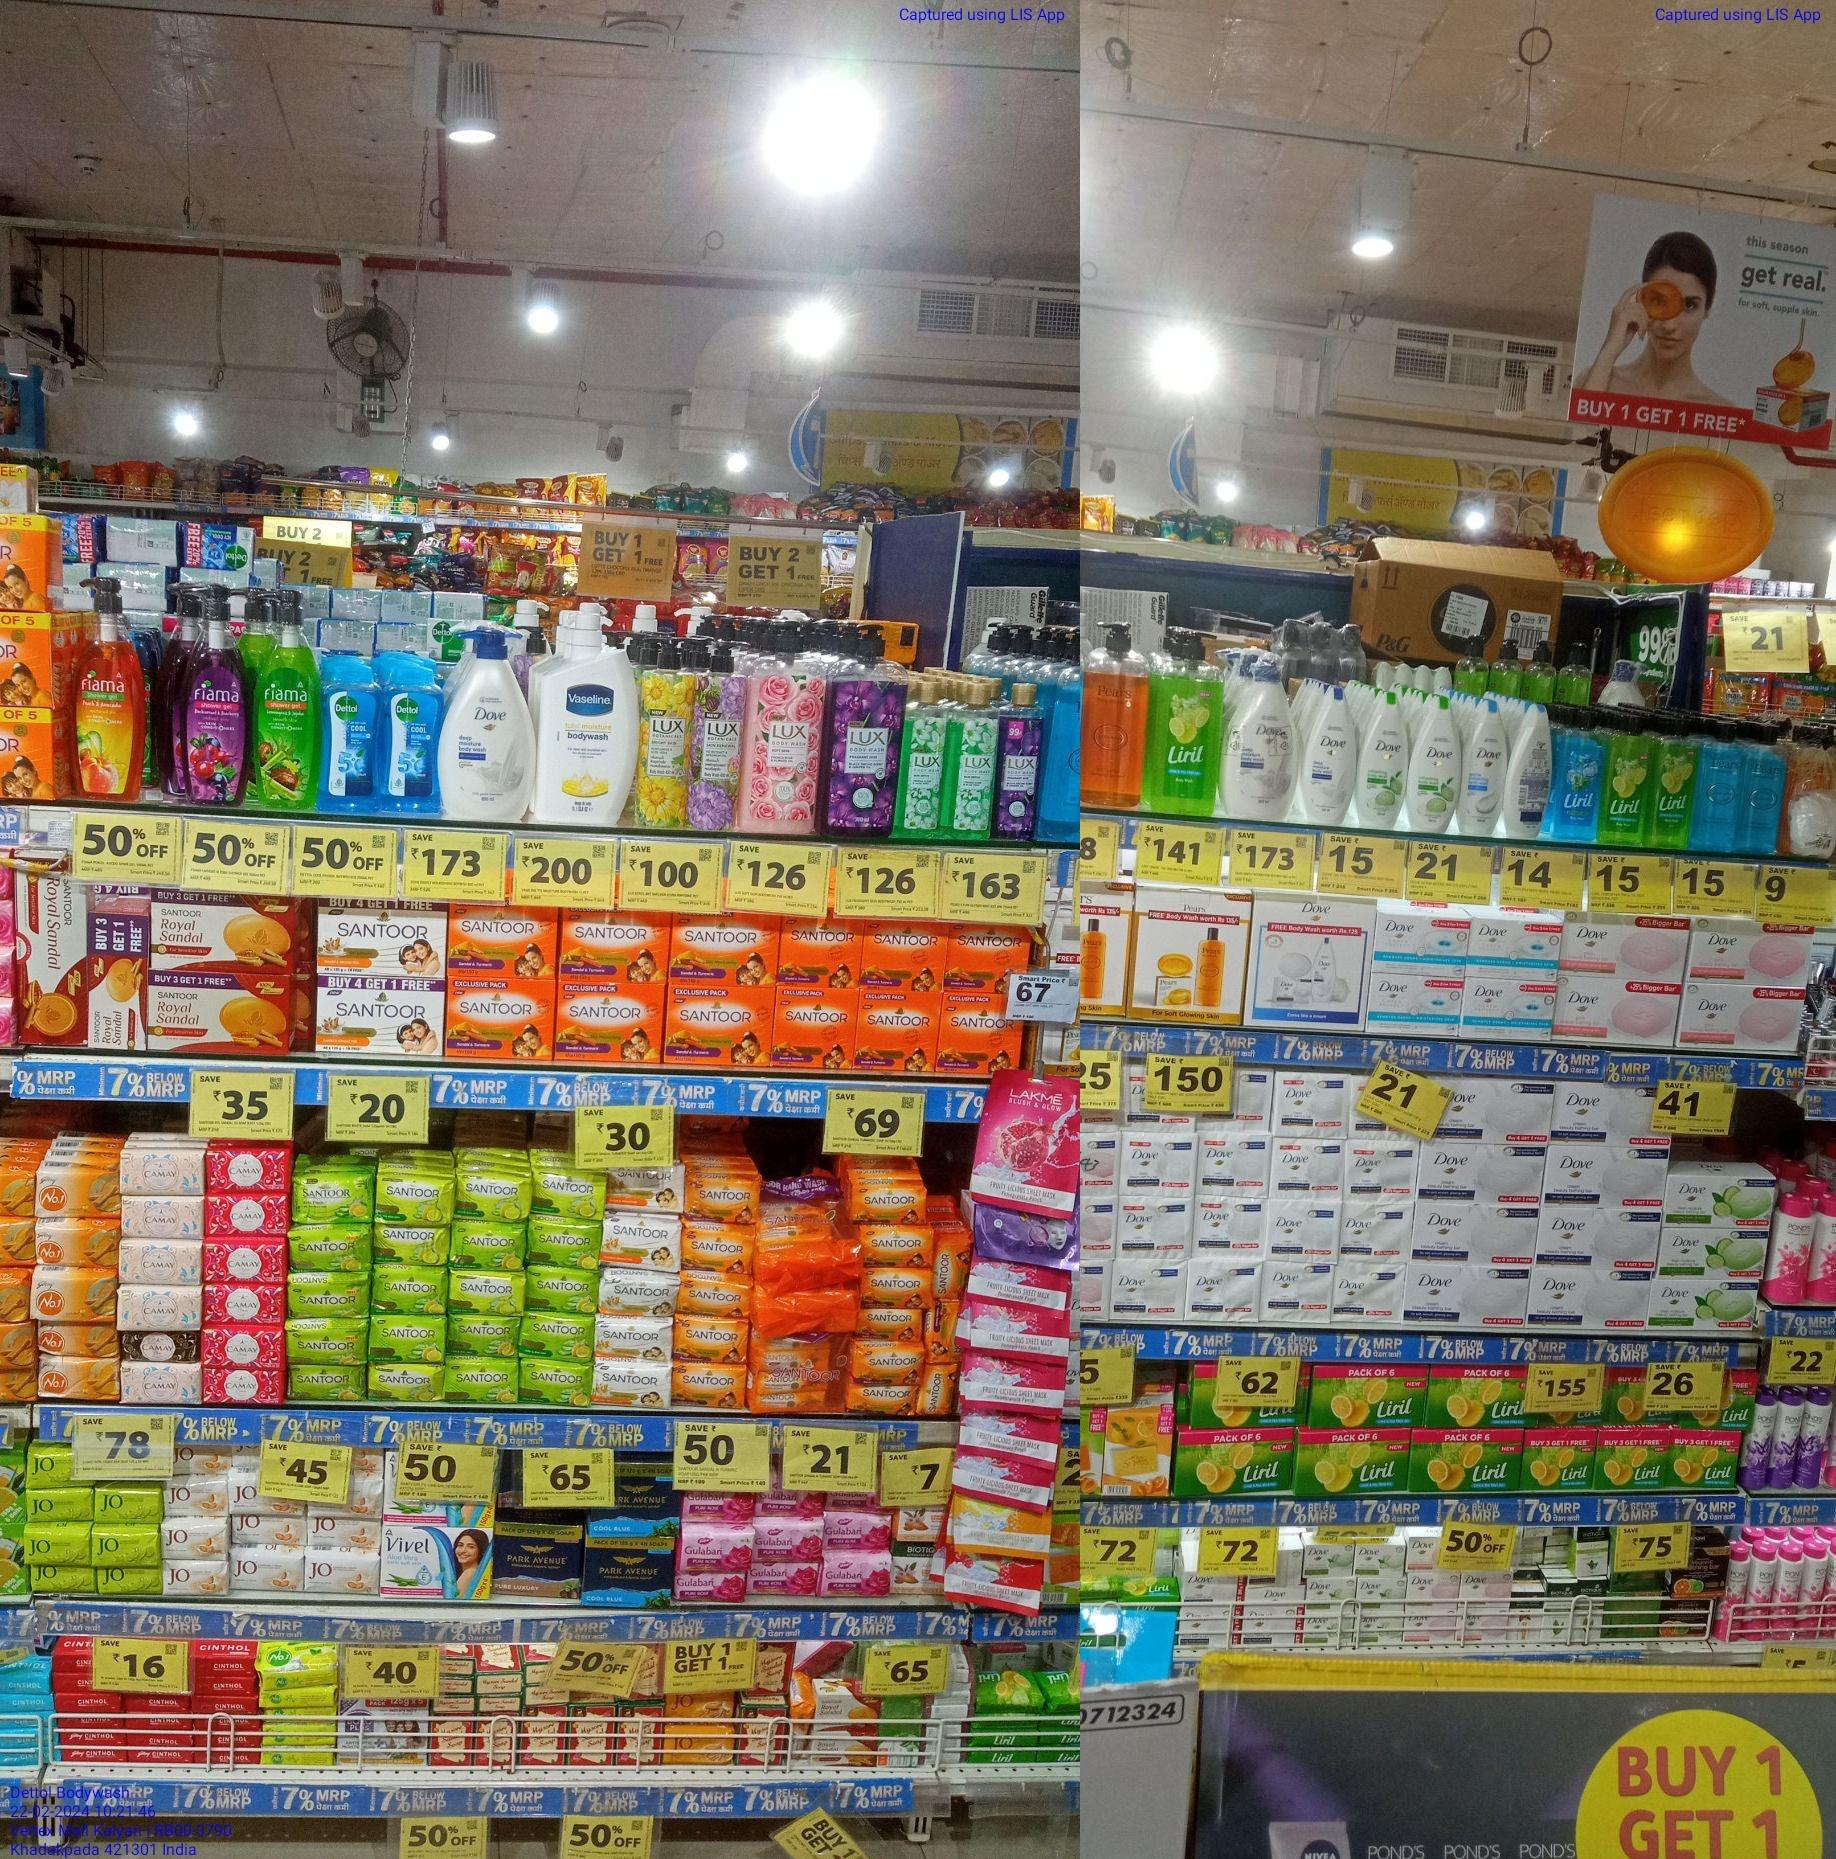Dettol_Bodywash_Cool: (380, 664, 437, 814), (321, 656, 375, 814)
Dove_Deep_Moisture_Body_Wash_250ML: (1301, 684, 1357, 822)
Dove_Gentle_Exfoliating_Body_Wash_250ML: (1464, 703, 1506, 839)
Dove_Refreshing_Body_Wash_250ML: (1362, 687, 1407, 829), (1412, 704, 1461, 834)
Liril_Cooling_Mint_Body_Wash_250ML: (1550, 711, 1602, 842)
Liril_Lime_and_Tea_Tree_Oil_Body_Wash_250ML: (1609, 713, 1653, 844), (1656, 719, 1693, 847)
Lux_Black_Orchid_Scent_and_Juniper_Oil_Body_Wash_245ML: (995, 686, 1044, 837)
Lux_Body_Wash_Skin_Detox_Freesia_Scent_and_Alove_Vera_245ML: (950, 684, 990, 840), (905, 684, 940, 839)
Pears_Pure_Glycerin_and_Mint_Extracts_Body_Wash_250ML: (1700, 724, 1738, 857), (1744, 733, 1786, 854)
